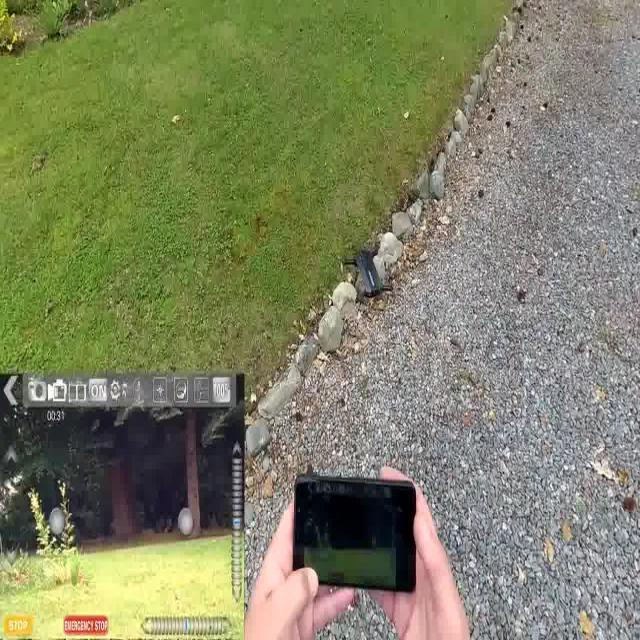Drone_FW: (329, 235, 391, 308)
